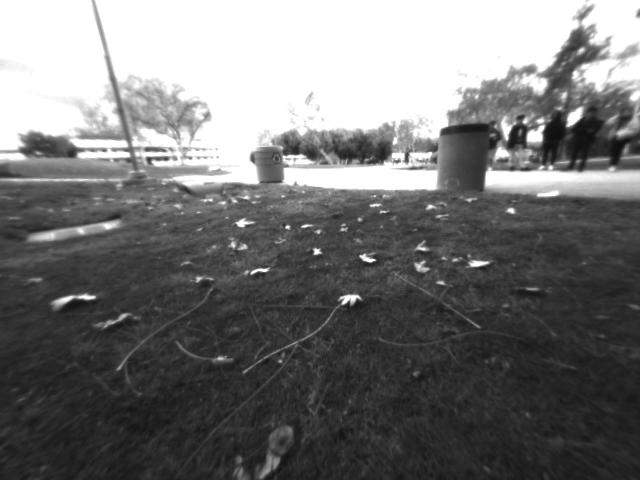trashcan: (433, 115, 494, 202), (248, 139, 293, 188)
